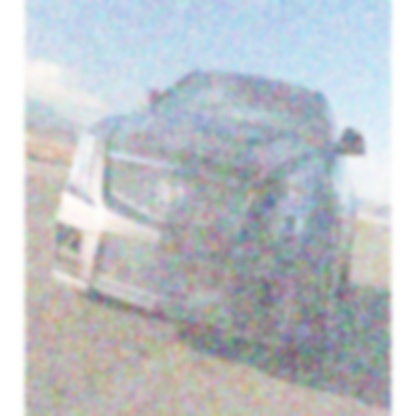Vehicle: (50, 64, 367, 380)
